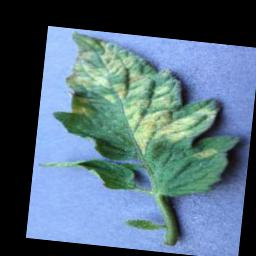Leaf_Mold: (57, 30, 229, 163)
